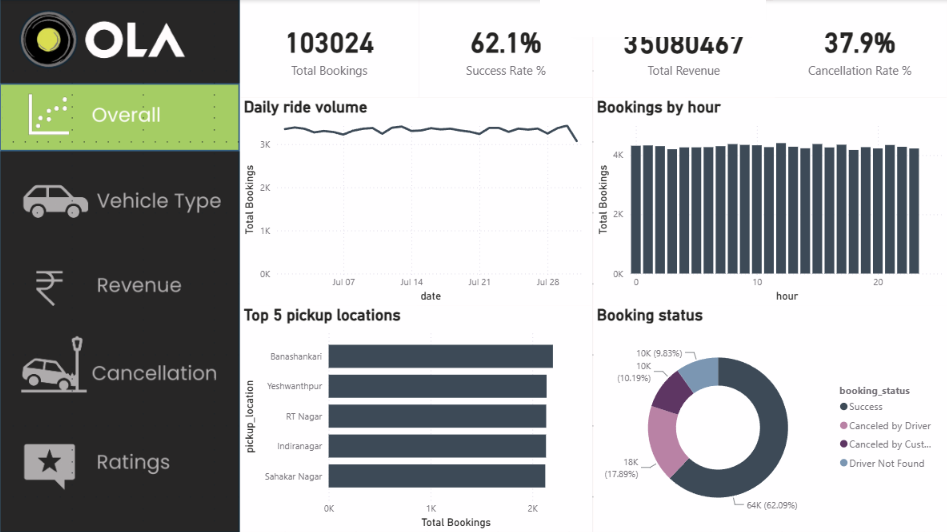

The dashboard page shown, as its layout file describes it:
{"tool":"powerbi","page":{"name":"Overall","canvas":[1280,720],"ordinal":0},"visuals":[{"type":"card","fields":{"Values":["ola_rides.Total Bookings"]},"box":[325.1,0,241.5,132.2],"z":0},{"type":"card","fields":{"Values":["ola_rides.Success Rate %"]},"box":[566.6,0,234.7,132.2],"z":1000},{"type":"card","fields":{"Values":["ola_rides.Total Revenue"]},"box":[801.4,1.3,245.5,130.9],"z":2000},{"type":"card","fields":{"Values":["ola_rides.Cancellation Rate %"]},"box":[1045.5,0,234.7,132.2],"z":3000},{"type":"lineChart","title":"Daily ride volume","fields":{"Category":["ola_rides.date"],"Y":["ola_rides.Total Bookings"]},"box":[325.1,132.2,476.2,282],"z":4000},{"type":"donutChart","title":"Booking status","fields":{"Category":["ola_rides.booking_status"],"Y":["ola_rides.Total Bookings"]},"box":[801.4,414.2,478.9,306.2],"z":5000},{"type":"clusteredColumnChart","title":"Bookings by hour","fields":{"Category":["ola_rides.hour"],"Y":["ola_rides.Total Bookings"]},"box":[801.4,132.2,478.9,282],"z":6000},{"type":"clusteredBarChart","title":"Top 5 pickup locations","fields":{"Category":["ola_rides.pickup_location"],"Y":["ola_rides.Total Bookings"]},"box":[325.1,414.2,476.2,306.2],"z":7000},{"type":"actionButton","box":[0,336.7,324.5,89.2],"z":7001},{"type":"actionButton","box":[0,228.5,324.5,89.2],"z":7002},{"type":"actionButton","box":[0,450.3,324.5,89.2],"z":7003},{"type":"actionButton","box":[0,586.8,324.5,89.2],"z":7004}]}

Visuals, with their boxes on the page's 1280x720 design canvas (x1, y1, x2, y2). These are canvas units, not pixel positions in the 947x532 screenshot, which may show the page scaled, cropped or inside an application window:
card - ola_rides.Total Bookings: region(325, 0, 567, 132)
card - ola_rides.Success Rate %: region(567, 0, 801, 132)
card - ola_rides.Total Revenue: region(801, 1, 1047, 132)
card - ola_rides.Cancellation Rate %: region(1046, 0, 1280, 132)
"Daily ride volume" lineChart: region(325, 132, 801, 414)
"Booking status" donutChart: region(801, 414, 1280, 720)
"Bookings by hour" clusteredColumnChart: region(801, 132, 1280, 414)
"Top 5 pickup locations" clusteredBarChart: region(325, 414, 801, 720)
actionButton: region(0, 337, 324, 426)
actionButton: region(0, 228, 324, 318)
actionButton: region(0, 450, 324, 540)
actionButton: region(0, 587, 324, 676)
